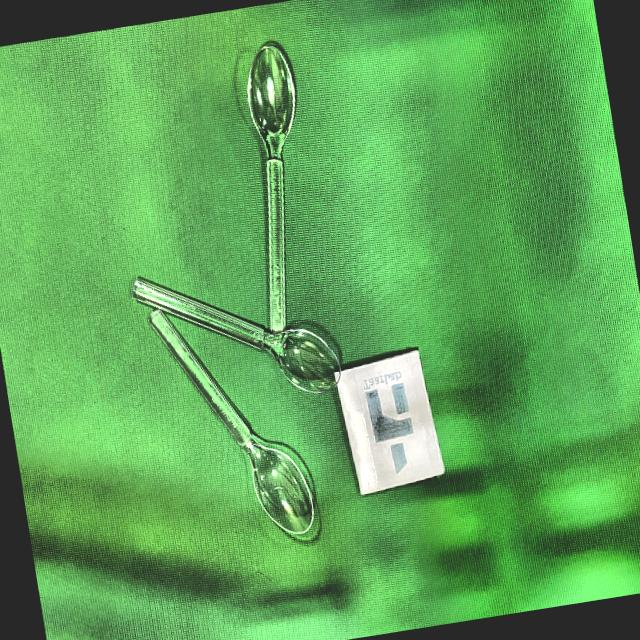plastic utensil: (145, 305, 319, 540), (134, 277, 343, 392), (249, 44, 298, 333)
